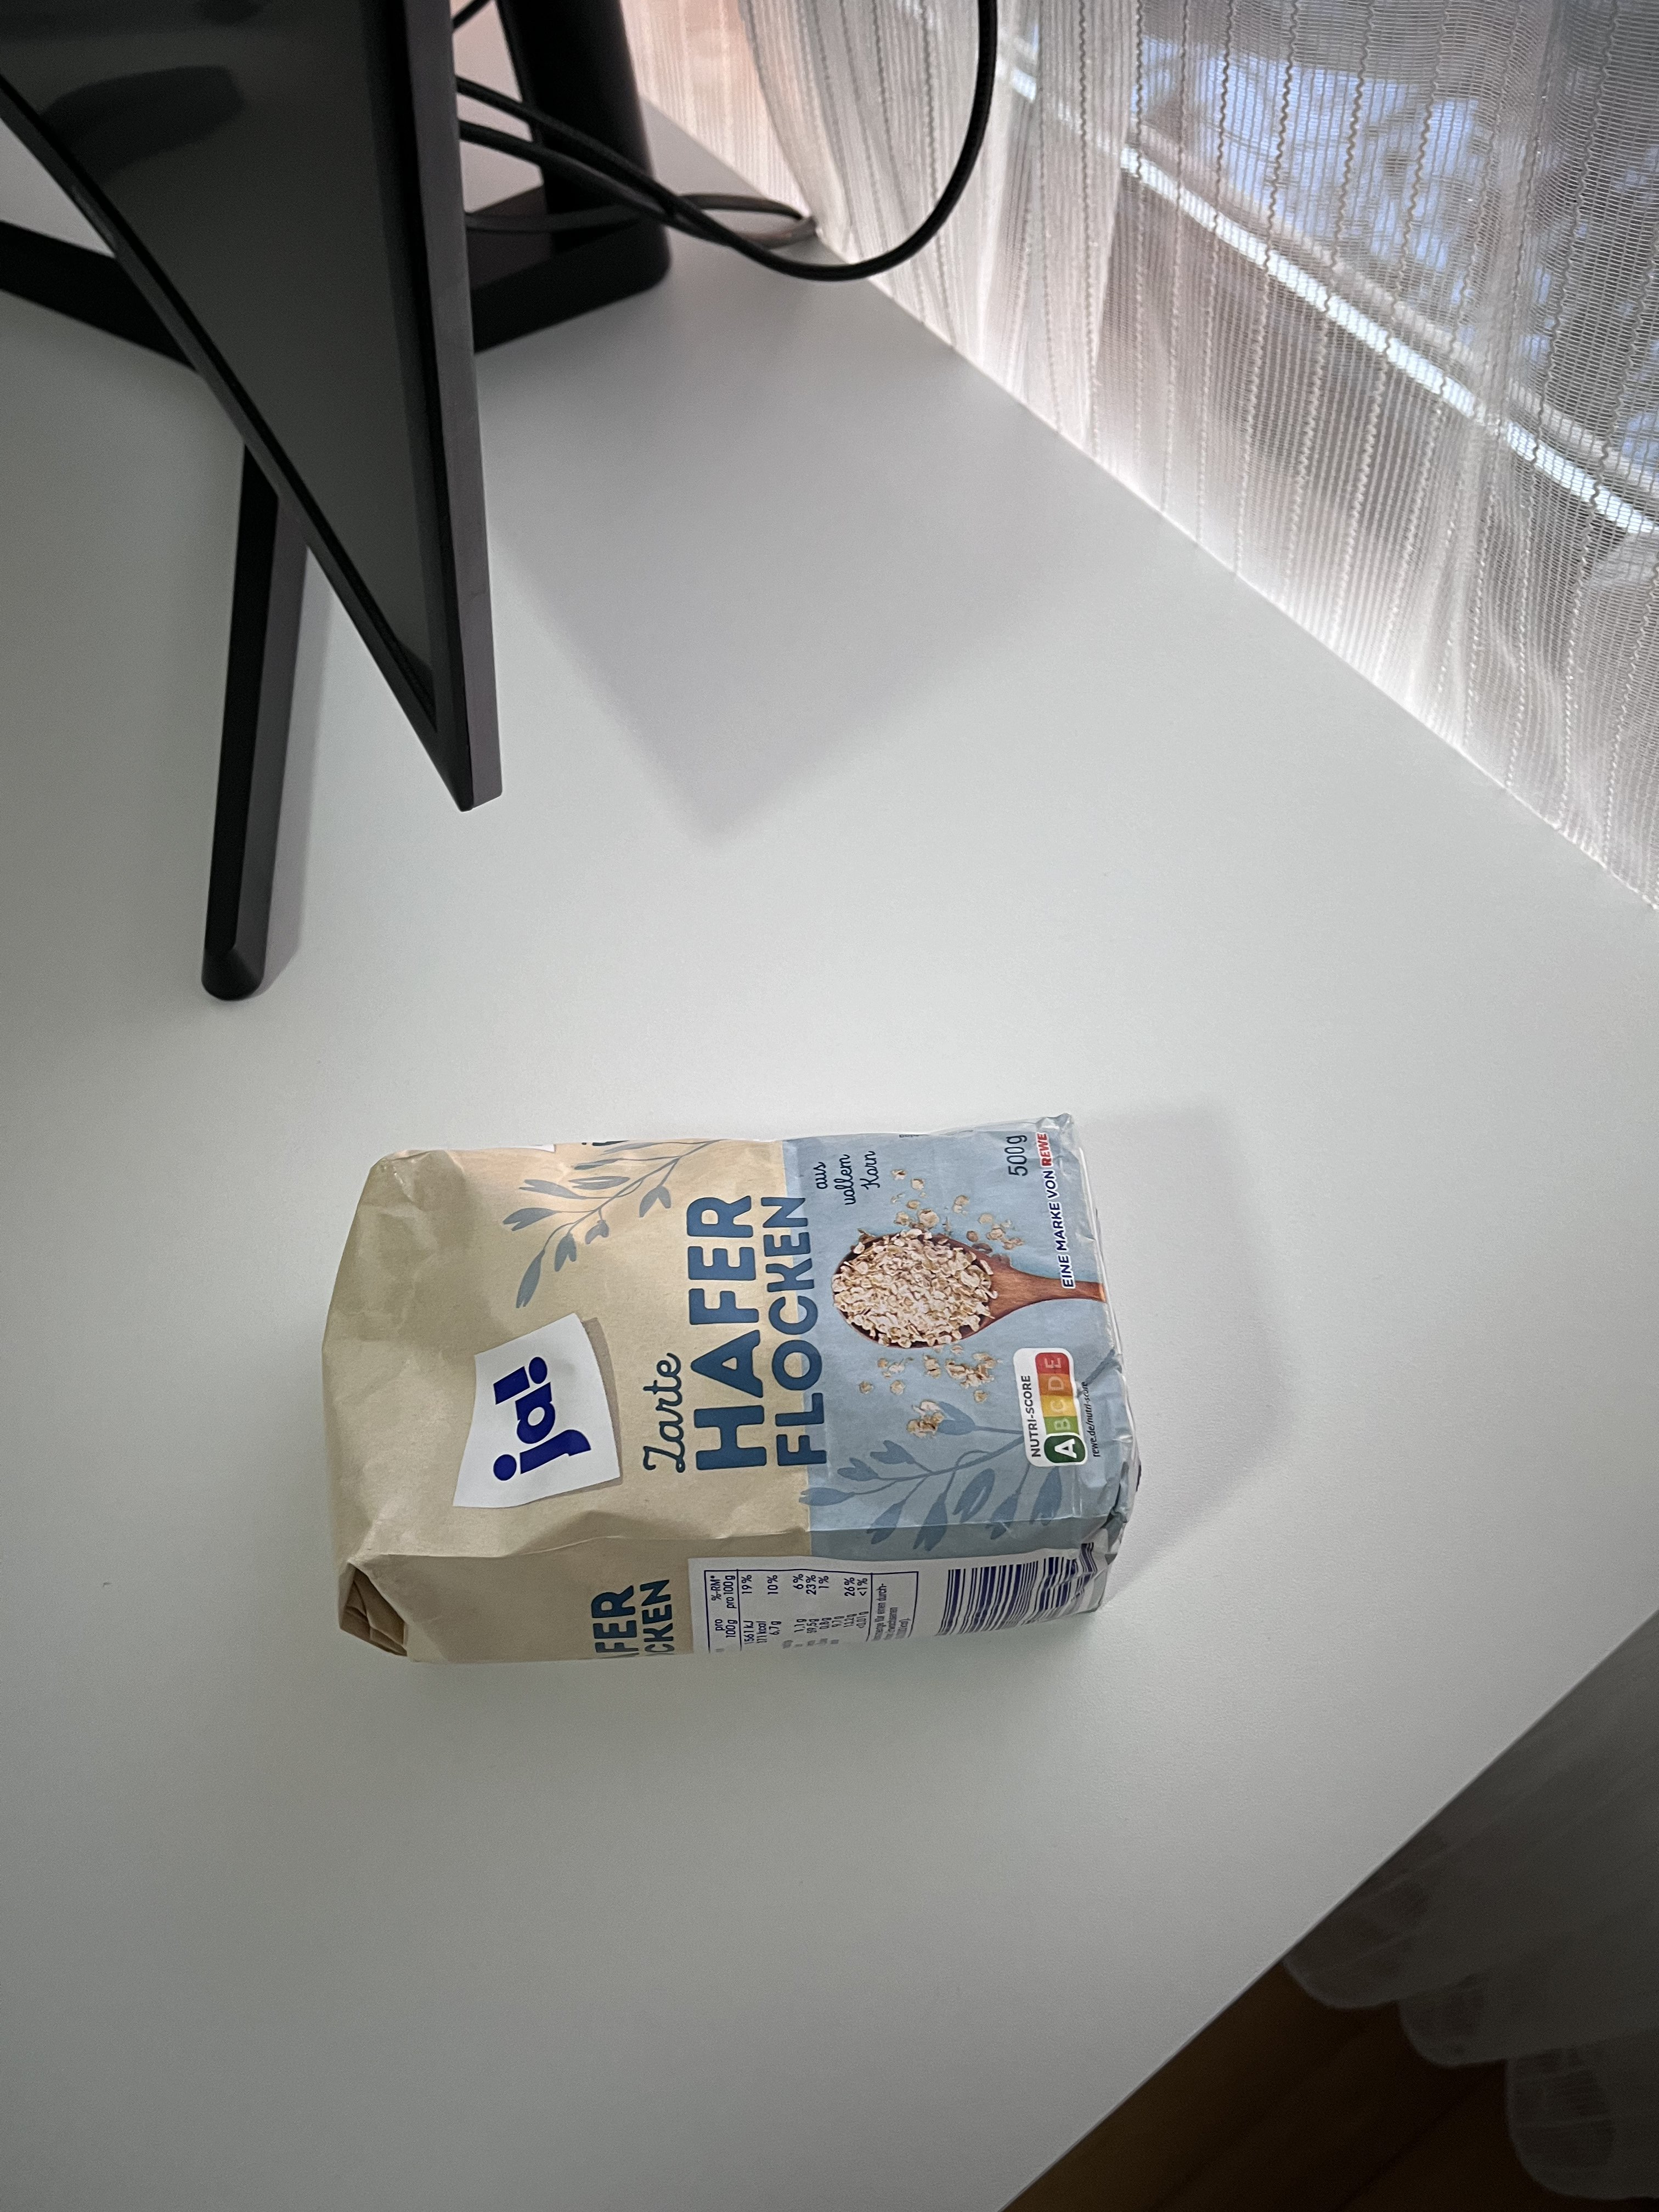haferflocken_ja: (317, 1113, 1145, 1667)
